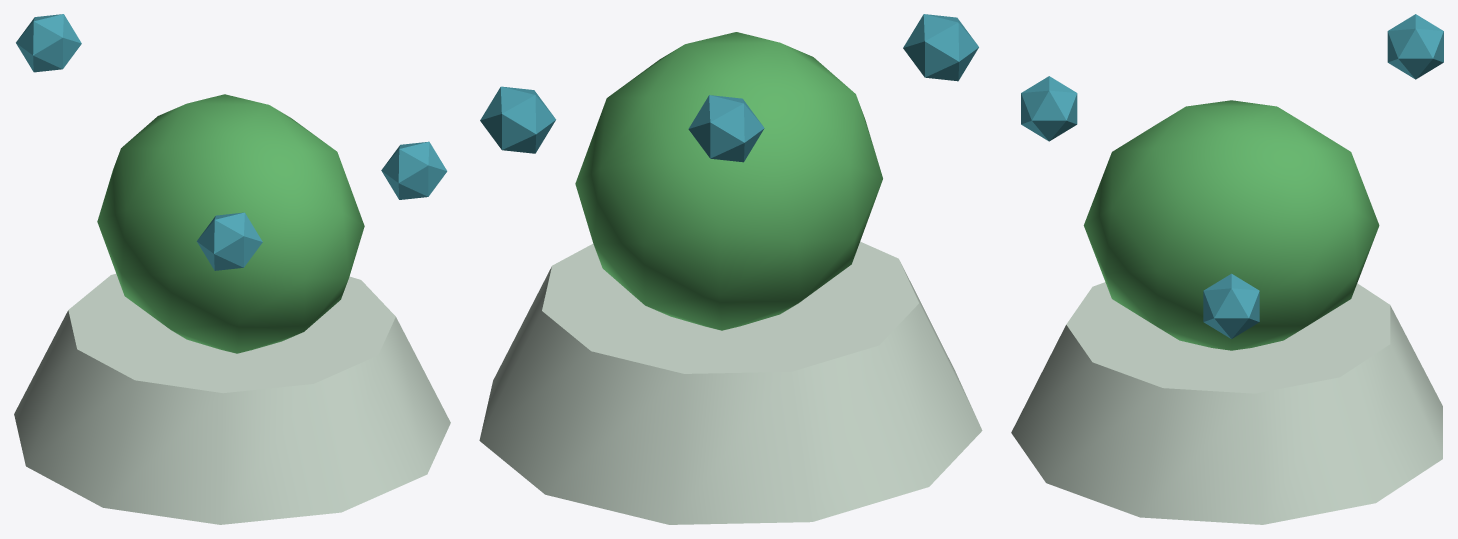
Rendered from vendor_helper_memory.glb.
3 views of the same model, side by side, from view 1: azimuth 30°, elevation 25°; view 2: azimuth 150°, elevation 25°; view 3: azimuth 270°, elevation 25° (orthographic). The views are drawn at different scales.
Parts seen in each view (by area): view 1: memory_pedestal, memory_symbol_vendor_helper, memory_star_2, memory_star_0, memory_star_1; view 2: memory_pedestal, memory_symbol_vendor_helper, memory_star_1, memory_star_0, memory_star_2; view 3: memory_pedestal, memory_symbol_vendor_helper, memory_star_2, memory_star_1, memory_star_0.
Part boxes in pixels (x1=…): memory_pedestal: x1=14, y1=274, x2=450, y2=524; memory_symbol_vendor_helper: x1=97, y1=94, x2=364, y2=353; memory_star_2: x1=16, y1=14, x2=81, y2=72; memory_star_0: x1=381, y1=141, x2=447, y2=199; memory_star_1: x1=196, y1=212, x2=262, y2=270; memory_pedestal: x1=479, y1=241, x2=982, y2=524; memory_symbol_vendor_helper: x1=575, y1=32, x2=882, y2=330; memory_star_1: x1=903, y1=14, x2=978, y2=81; memory_star_0: x1=480, y1=86, x2=555, y2=153; memory_star_2: x1=688, y1=95, x2=764, y2=162; memory_pedestal: x1=1011, y1=282, x2=1442, y2=524; memory_symbol_vendor_helper: x1=1083, y1=100, x2=1379, y2=350; memory_star_2: x1=1387, y1=14, x2=1443, y2=79; memory_star_1: x1=1021, y1=76, x2=1077, y2=141; memory_star_0: x1=1203, y1=273, x2=1259, y2=338.
Size of what is drawn, in the model's own units: 2.49 by 2.21 by 2.36.
